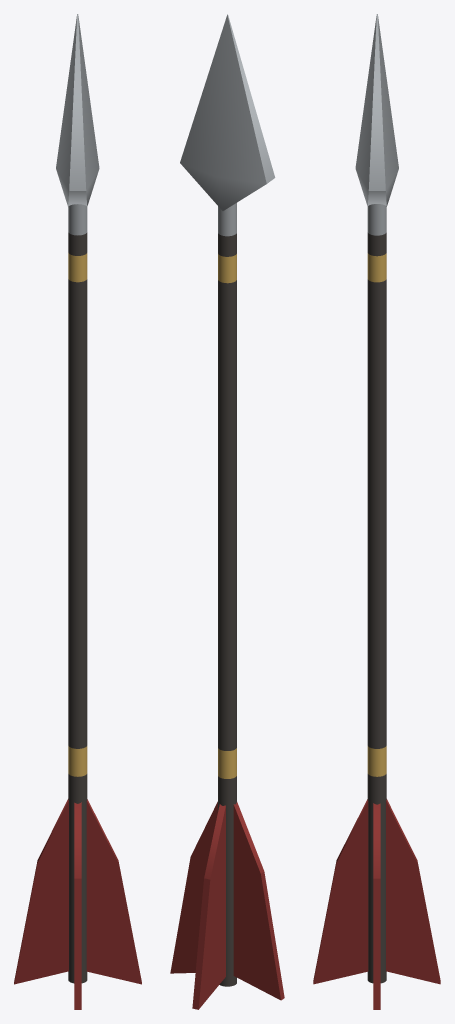
File: tool_arrow.fbx
3 views of the same model, side by side, from view 1: azimuth 90°, elevation 25°; view 2: azimuth 150°, elevation 25°; view 3: azimuth 270°, elevation 25° (orthographic).
Parts seen in each view (by area): view 1: pCylinder3; view 2: pCylinder3; view 3: pCylinder3.
Part boxes in pixels (x1,y1,x2,y2): pCylinder3: [14, 14, 141, 1009]; pCylinder3: [170, 14, 284, 1009]; pCylinder3: [313, 14, 440, 1009].
Size of the model in its own units: 0.6807 by 5.7 by 0.6807.
